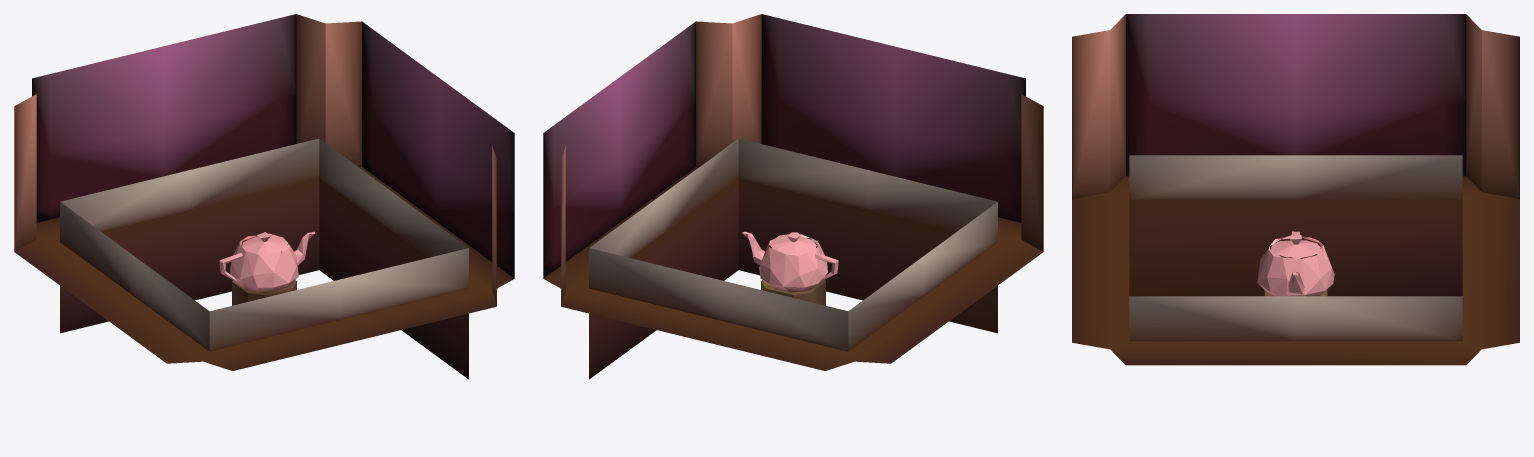
Rendered from model_lavaLevel.glb.
3 renders of one model, left to right at view 1: azimuth 30°, elevation 25°; view 2: azimuth 150°, elevation 25°; view 3: azimuth 270°, elevation 25°, orthographic. The views are drawn at different scales.
Parts seen in each view (by area): view 1: Walls, Room, Gates, teapot; view 2: Walls, Room, Gates, teapot; view 3: Room, Walls, Gates, teapot.
Part boxes in pixels (box(x1,y1,x2,y2)): Walls: box(32, 14, 514, 278); Room: box(14, 14, 514, 379); Gates: box(60, 138, 468, 351); teapot: box(219, 231, 315, 292); Walls: box(543, 14, 1025, 278); Room: box(543, 14, 1043, 379); Gates: box(589, 138, 997, 351); teapot: box(742, 231, 838, 292); Room: box(1072, 14, 1519, 365); Walls: box(1126, 14, 1465, 176); Gates: box(1129, 155, 1462, 341); teapot: box(1257, 231, 1334, 296).
Size of the model in its own units: 20 by 13.01 by 20.
